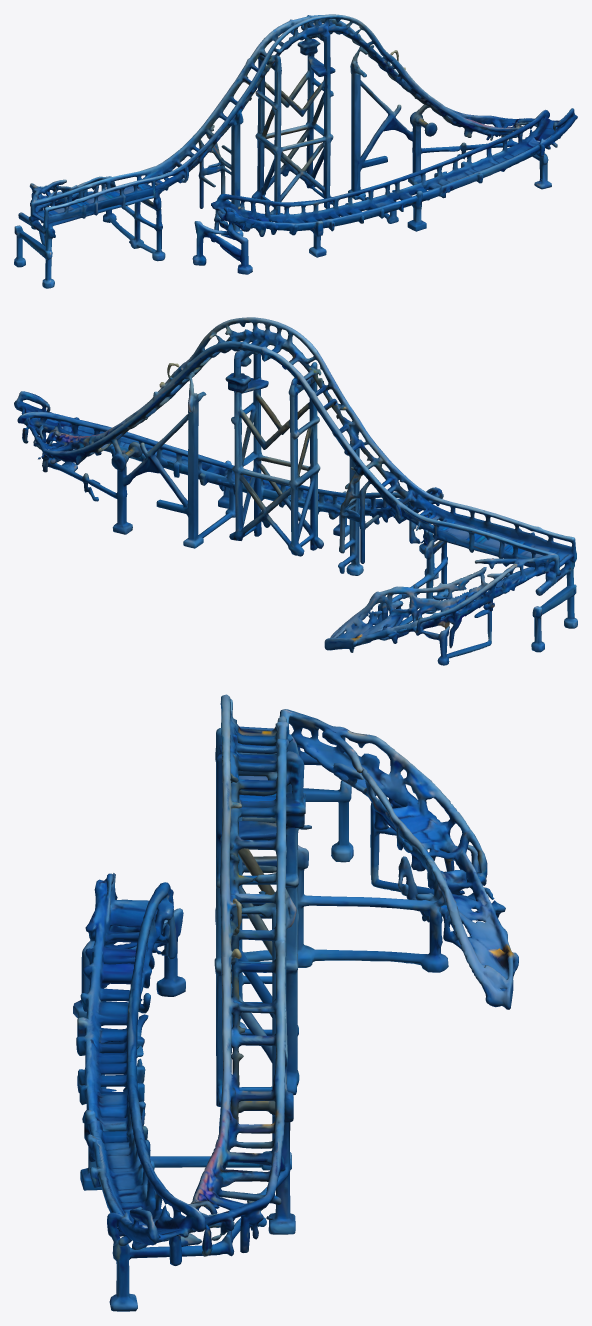
Rendered from building-roller-coaster.glb.
3 renders of one model, top to bottom at view 1: azimuth 30°, elevation 25°; view 2: azimuth 150°, elevation 25°; view 3: azimuth 270°, elevation 25°, orthographic. The views are drawn at different scales.
Parts seen in each view (by area): view 1: tripo_node_f77aff5c-3b13-4b66-9698-223a9dac7ace; view 2: tripo_node_f77aff5c-3b13-4b66-9698-223a9dac7ace; view 3: tripo_node_f77aff5c-3b13-4b66-9698-223a9dac7ace.
Boxes of the visible parts, box(x1,y1,x2,y2) form: tripo_node_f77aff5c-3b13-4b66-9698-223a9dac7ace: box(14, 14, 577, 288); tripo_node_f77aff5c-3b13-4b66-9698-223a9dac7ace: box(14, 317, 577, 665); tripo_node_f77aff5c-3b13-4b66-9698-223a9dac7ace: box(73, 694, 518, 1311).
Size of the model in its own units: 38.54 by 15 by 14.45.
Materials: 1 (1 with a texture image).
